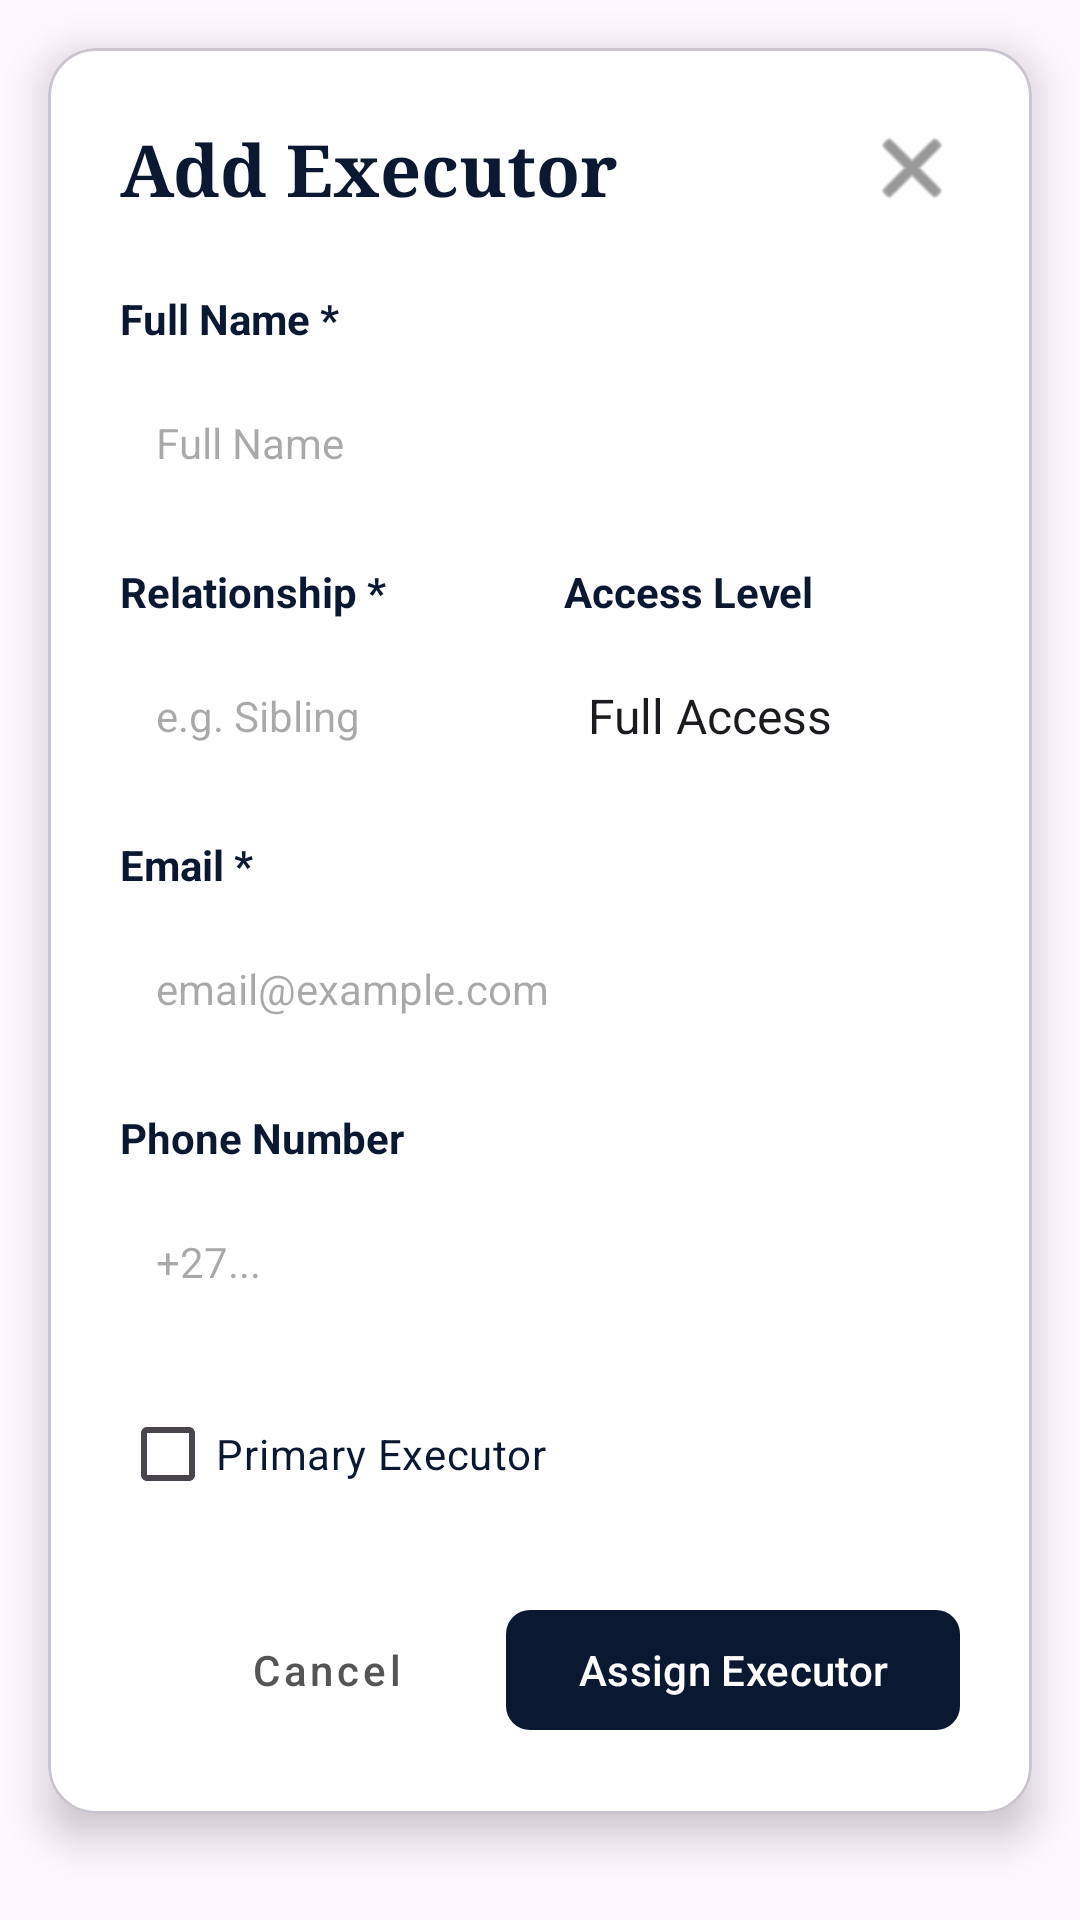

Named icons in this screenshot (1080px x 1920px) and their centers, point (x, y):
close clear cancel: point (912, 168)
